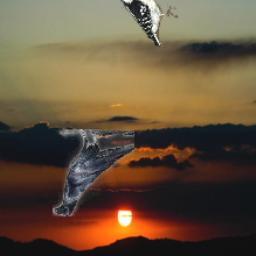Crow: (53, 130, 134, 218)
Woodpecker: (118, 0, 180, 47)
